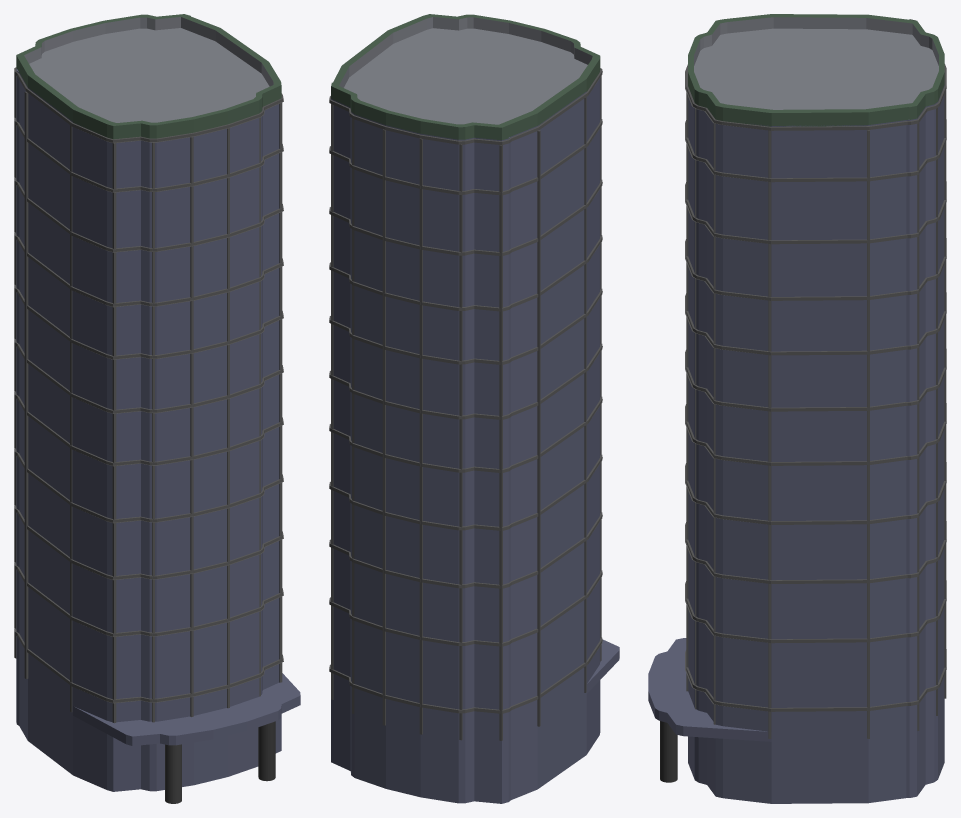
The model's file is build_a.fbx.
3 renders of one model, left to right at view 1: azimuth 30°, elevation 25°; view 2: azimuth 150°, elevation 25°; view 3: azimuth 270°, elevation 25°, orthographic. The views are drawn at different scales.
Parts seen in each view (by area): view 1: 立方体, 立方体.017, 立方体.008, 立方体.006, 立方体.002, 立方体.005, 立方体.003, 立方体.007, 立方体.001, 立方体.015, 立方体.021, 立方体.023 (+12 smaller); view 2: 立方体, 立方体.017, 立方体.008, 立方体.012, 立方体.015, 立方体.011, 立方体.014, 立方体.016, 立方体.007, 立方体.013, 立方体.021, 立方体.025 (+10 smaller); view 3: 立方体, 立方体.017, 立方体.010, 立方体.009, 立方体.016, 立方体.012, 立方体.005, 立方体.001, 立方体.021, 立方体.020, 立方体.028, 立方体.024 (+10 smaller).
Part boxes in pixels (x1=…): 立方体: x1=16, y1=68, x2=300, y2=791; 立方体.017: x1=16, y1=14, x2=281, y2=139; 立方体.008: x1=24, y1=91, x2=28, y2=679; 立方体.006: x1=112, y1=143, x2=116, y2=723; 立方体.002: x1=190, y1=137, x2=193, y2=717; 立方体.005: x1=279, y1=103, x2=282, y2=682; 立方体.003: x1=152, y1=142, x2=154, y2=722; 立方体.007: x1=70, y1=125, x2=72, y2=712; 立方体.001: x1=227, y1=128, x2=229, y2=708; 立方体.015: x1=14, y1=72, x2=16, y2=658; 立方体.021: x1=14, y1=67, x2=283, y2=143; 立方体.023: x1=14, y1=338, x2=283, y2=413; 立方体: x1=331, y1=78, x2=619, y2=803; 立方体.017: x1=331, y1=14, x2=600, y2=140; 立方体.008: x1=537, y1=130, x2=540, y2=726; 立方体.012: x1=382, y1=129, x2=385, y2=725; 立方体.015: x1=499, y1=145, x2=502, y2=740; 立方体.011: x1=419, y1=138, x2=422, y2=734; 立方体.014: x1=459, y1=144, x2=462, y2=740; 立方体.016: x1=331, y1=104, x2=333, y2=699; 立方体.007: x1=584, y1=97, x2=586, y2=692; 立方体.013: x1=352, y1=118, x2=354, y2=713; 立方体.021: x1=329, y1=68, x2=602, y2=145; 立方体.025: x1=329, y1=454, x2=602, y2=530; 立方体: x1=648, y1=85, x2=944, y2=803; 立方体.017: x1=688, y1=14, x2=944, y2=126; 立方体.010: x1=768, y1=130, x2=771, y2=738; 立方体.009: x1=867, y1=130, x2=869, y2=738; 立方体.016: x1=917, y1=123, x2=919, y2=730; 立方体.012: x1=944, y1=90, x2=946, y2=698; 立方体.005: x1=713, y1=123, x2=715, y2=724; 立方体.001: x1=686, y1=92, x2=688, y2=691; 立方体.021: x1=685, y1=64, x2=946, y2=130; 立方体.020: x1=685, y1=238, x2=946, y2=300; 立方体.028: x1=685, y1=649, x2=946, y2=711; 立方体.024: x1=685, y1=403, x2=946, y2=465.
Bounding box in the file's own units: 236 × 758 × 296.
